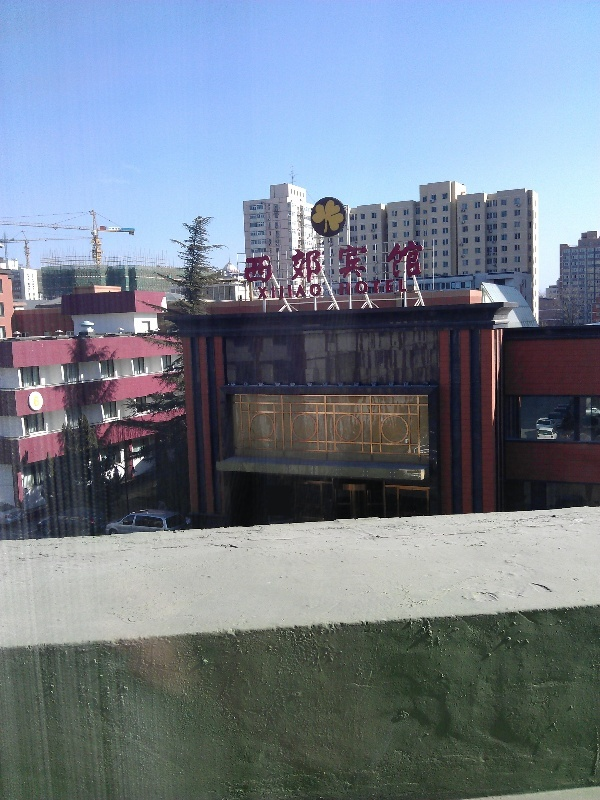text: (257, 241, 272, 287), (273, 241, 288, 287), (289, 241, 304, 287), (305, 241, 320, 287), (321, 241, 336, 287), (337, 241, 352, 287), (353, 241, 368, 287), (369, 241, 384, 287), (385, 241, 400, 287), (401, 241, 416, 287), (242, 241, 256, 287), (417, 241, 425, 287), (257, 283, 272, 300), (273, 283, 288, 300), (289, 283, 304, 300), (305, 283, 320, 300), (353, 279, 368, 296), (369, 279, 384, 296), (385, 279, 400, 296), (339, 279, 352, 296), (401, 279, 408, 296), (321, 283, 323, 300), (113, 228, 121, 231), (109, 228, 112, 231)
